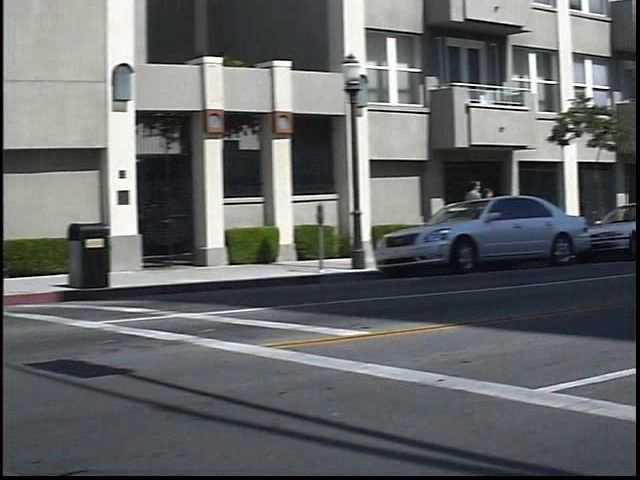person: (474, 175, 498, 250), (493, 183, 513, 245)
